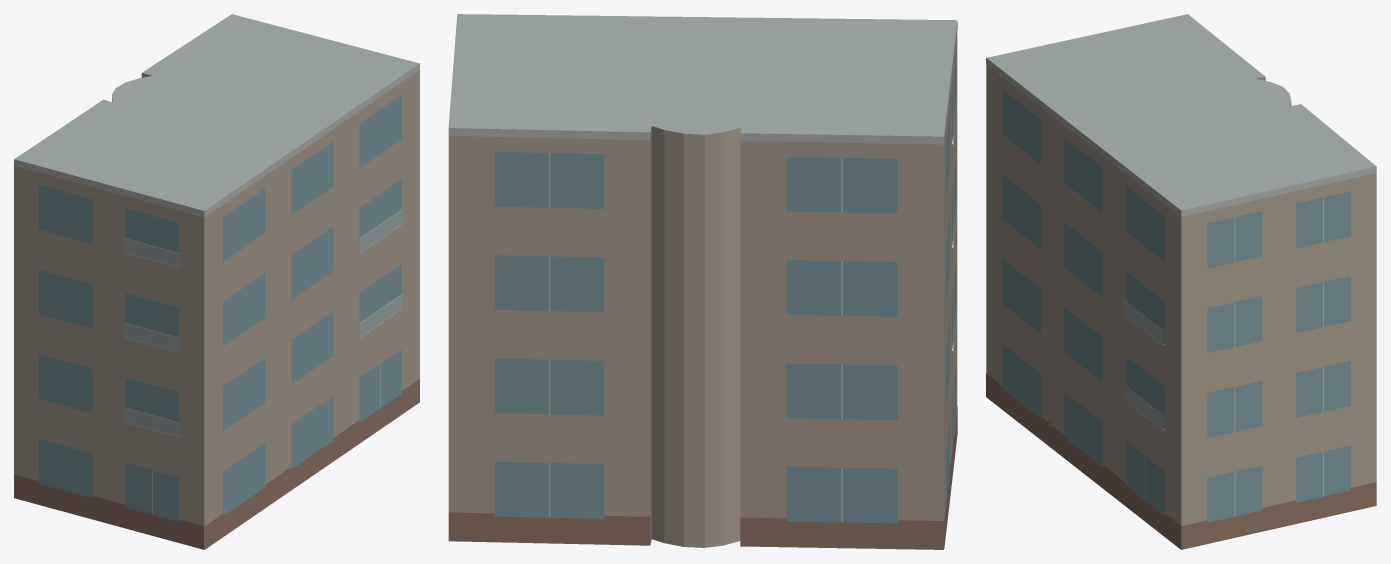
The model's file is survey-upis-32947089.glb.
3 views of the same model, side by side, from view 1: azimuth 30°, elevation 25°; view 2: azimuth 150°, elevation 25°; view 3: azimuth 270°, elevation 25° (orthographic). The views are drawn at different scales.
Visible parts, largest first — view 1: survey-upis-32947089.tmp; view 2: survey-upis-32947089.tmp; view 3: survey-upis-32947089.tmp.
Boxes of the visible parts, x1,y1,x2,y2 form: survey-upis-32947089.tmp: [14, 14, 419, 549]; survey-upis-32947089.tmp: [448, 14, 957, 549]; survey-upis-32947089.tmp: [986, 14, 1376, 549].
Bounding box in the file's own units: 15.92 × 12.8 × 13.36.
